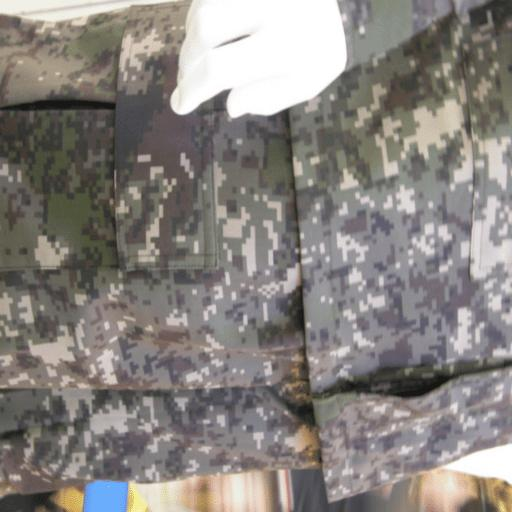korea army: (0, 0, 510, 507)
